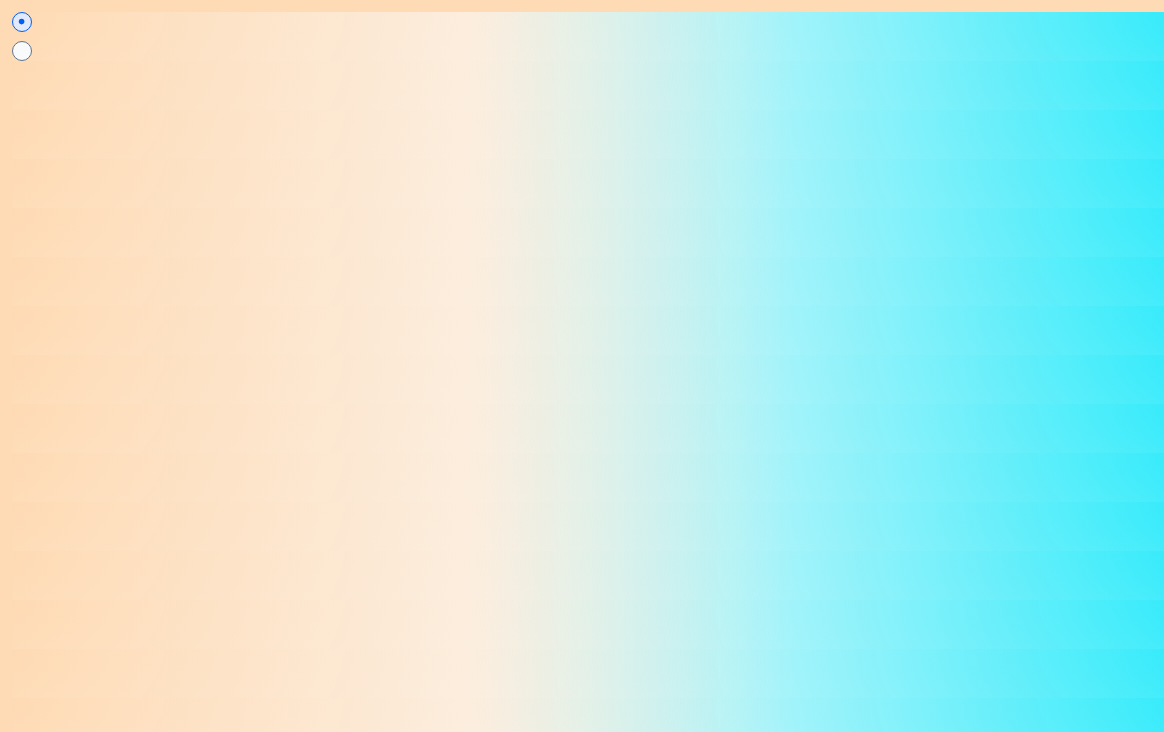
Test case: RadioGroup › switches selected item
What coordinates should you click on to do the following:
click the radio button named "Weekly"
I would click on:
 (22, 51)
Its box is [12, 41, 32, 61].
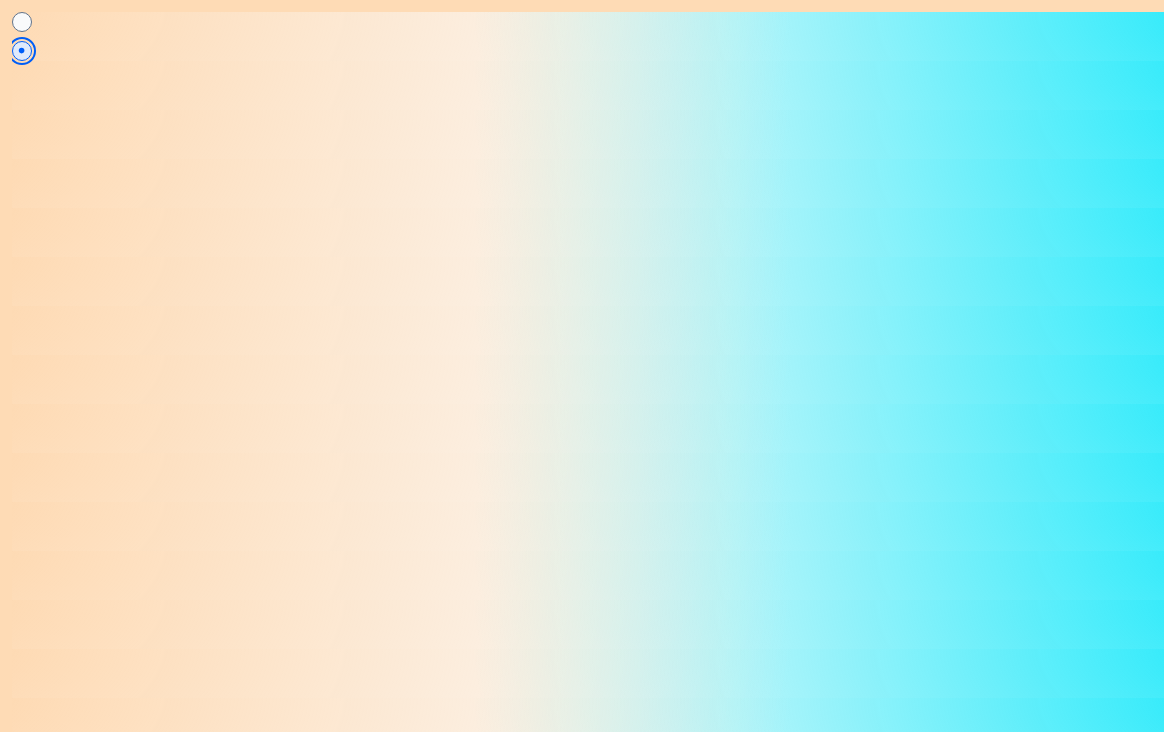
Check: the radio button named "Daily" is not checked, box [12, 12, 32, 32]
Check: the radio button named "Weekly" is checked, box [12, 41, 32, 61]
